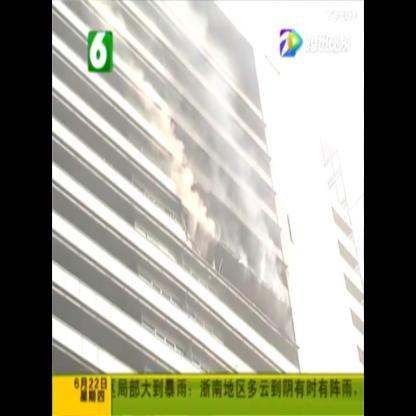smoke: (174, 166, 218, 248), (154, 106, 186, 164), (253, 236, 280, 282)
